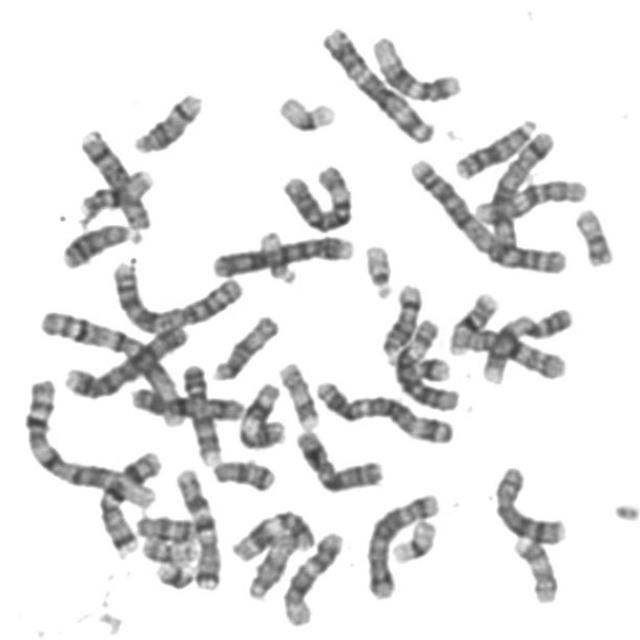A1: (17, 371, 159, 512), (33, 303, 190, 430)
A2: (404, 152, 572, 275), (104, 252, 245, 334)
A3: (314, 19, 437, 144), (308, 372, 457, 446)
B4: (57, 316, 189, 400), (207, 227, 356, 279)
B5: (358, 485, 442, 602), (482, 124, 556, 250)
C10: (452, 321, 567, 381), (468, 172, 590, 226)
C11: (225, 501, 318, 564), (231, 377, 288, 451)
C12: (364, 28, 464, 104), (275, 524, 346, 628)
C6: (388, 313, 462, 413), (276, 156, 356, 235)
C7: (93, 443, 164, 558), (168, 462, 224, 591)
C8: (72, 123, 152, 234), (488, 458, 568, 546)
C9: (476, 300, 576, 384), (174, 356, 225, 467)
D13: (448, 110, 539, 182), (55, 216, 144, 270)
D14: (126, 84, 206, 155), (375, 277, 425, 362)
D15: (206, 308, 281, 382), (240, 521, 302, 602)
E16: (72, 160, 156, 223), (442, 286, 502, 356)
E17: (507, 530, 560, 605), (272, 354, 322, 431)
E18: (205, 451, 277, 494), (130, 508, 199, 544)
F19: (271, 87, 340, 134), (385, 510, 439, 566)
F20: (567, 200, 617, 268), (134, 530, 200, 566)
G21: (149, 555, 197, 591), (408, 349, 453, 382)
G22: (254, 223, 298, 285), (357, 236, 396, 300)
X: (288, 422, 387, 493), (125, 380, 247, 425)
